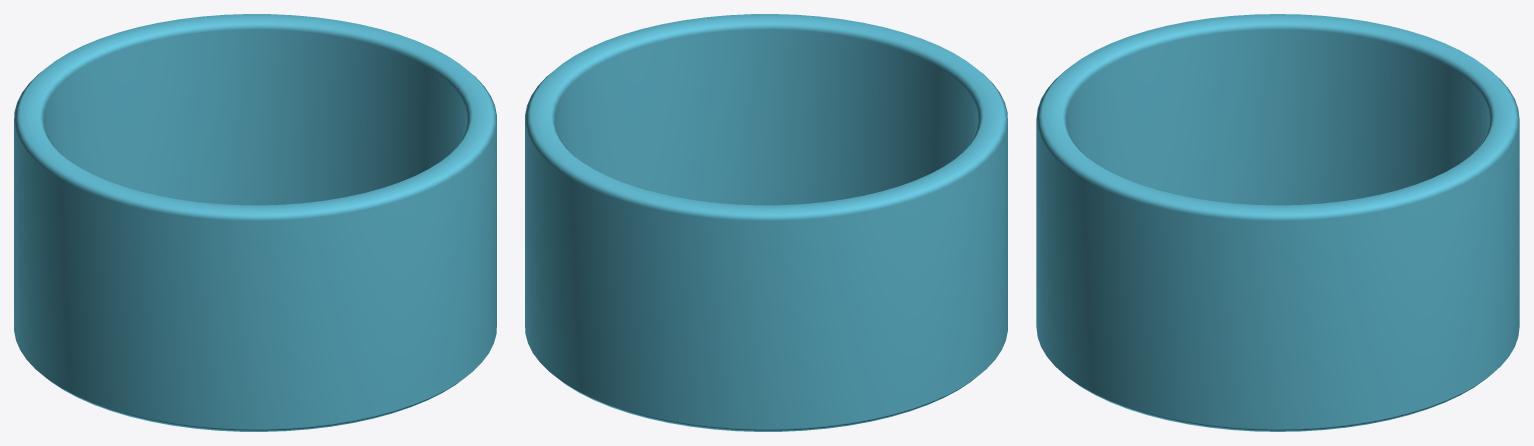
3 views of the same model, side by side, from view 1: azimuth 30°, elevation 25°; view 2: azimuth 150°, elevation 25°; view 3: azimuth 270°, elevation 25° (orthographic).
Parts seen in each view (by area): view 1: seal_body; view 2: seal_body; view 3: seal_body.
Boxes of the visible parts, <box> form: seal_body: <box>14,14,496,431</box>; seal_body: <box>525,14,1007,431</box>; seal_body: <box>1036,14,1519,431</box>.
Size of the model in its own units: 0.0508 by 0.0254 by 0.0508.
